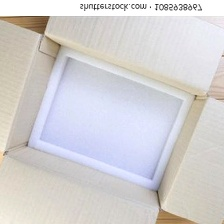foam_box: (21, 41, 199, 196)
